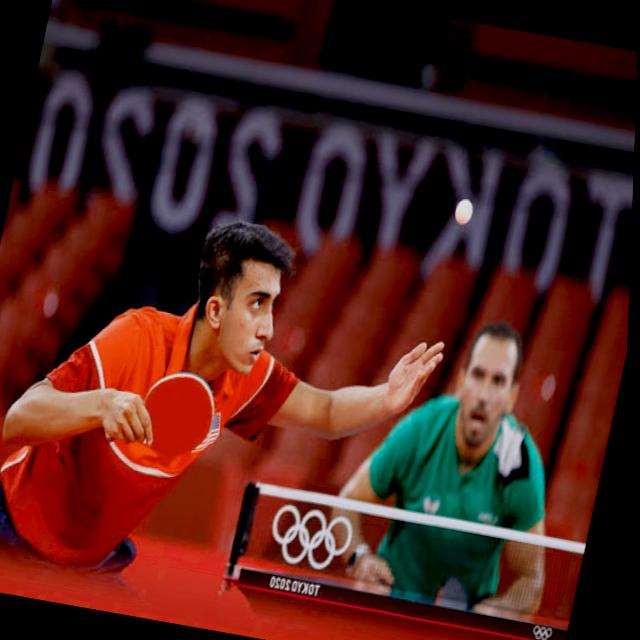TT Net: (227, 478, 587, 627)
TT Racket: (135, 366, 216, 469)
